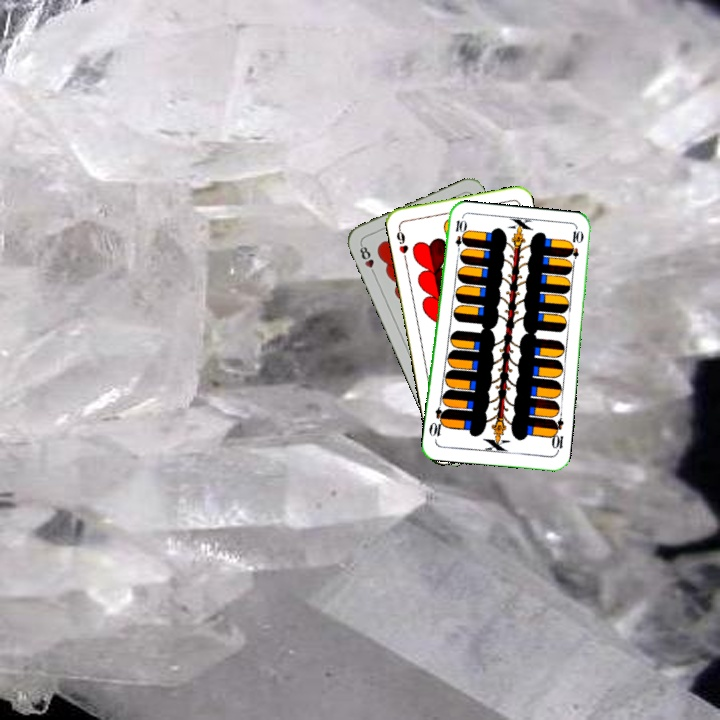E10: (547, 415, 566, 455), (451, 216, 467, 256)
H8: (355, 240, 379, 279)
H9: (392, 223, 411, 263)
